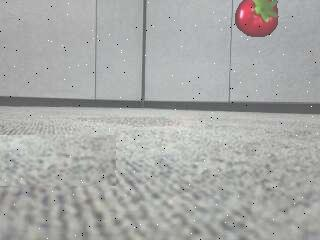Tomato: (235, 0, 279, 37)
